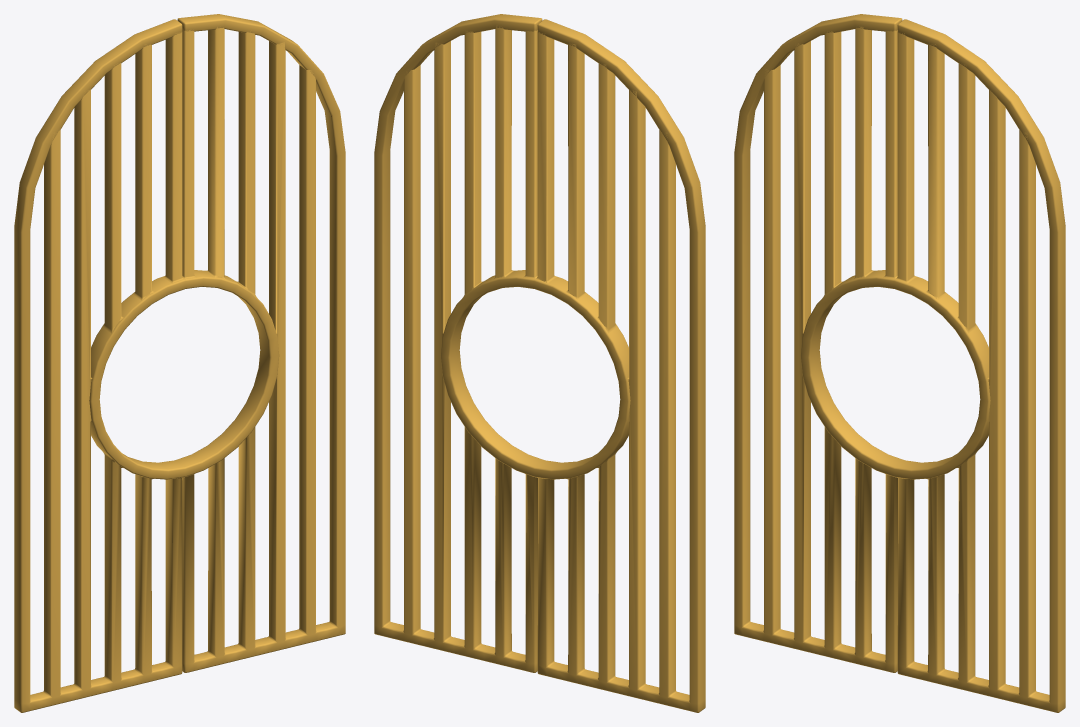
File: gate.fbx
The picture shows the model from 3 angles, left to right: view 1: azimuth 30°, elevation 25°; view 2: azimuth 150°, elevation 25°; view 3: azimuth 330°, elevation 25°; orthographic projection.
Parts seen in each view (by area): view 1: gate; view 2: gate; view 3: gate.
Boxes of the visible parts, x1,y1,x2,y2 form: gate: (14, 14, 345, 712); gate: (374, 14, 705, 712); gate: (734, 14, 1065, 712).
Bounding box in the file's own units: 344 × 658 × 20.
